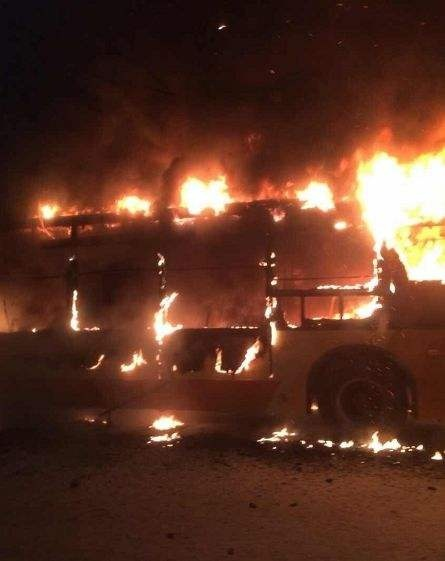fire: (346, 152, 445, 293), (260, 421, 440, 460), (175, 169, 249, 226), (284, 170, 339, 221), (212, 336, 263, 379), (106, 189, 155, 226), (264, 249, 282, 348), (154, 289, 181, 345), (66, 291, 95, 336), (149, 412, 182, 447), (118, 350, 153, 379), (38, 199, 69, 229)
